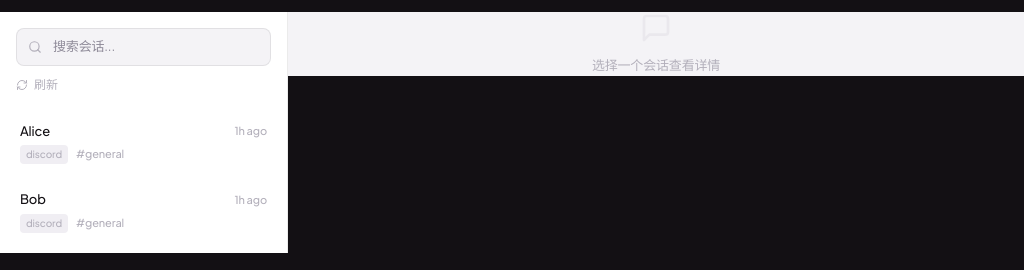
Scenario: SessionsPanel › filters sessions by search query
Expected: the text "Alice" is shown, [20, 122, 50, 141]
Type "ali" into the field with placeholder "搜索会话...". click: (144, 47)
box: [16, 28, 271, 66]
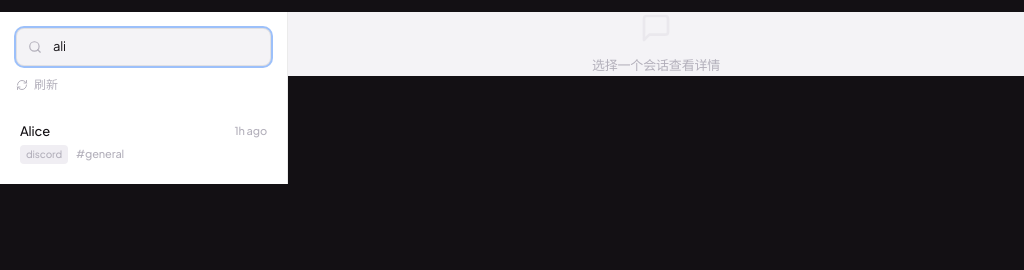
Expected: the text "Alice" is shown, [20, 122, 50, 141]
Expected: the button "Bob" is gone
